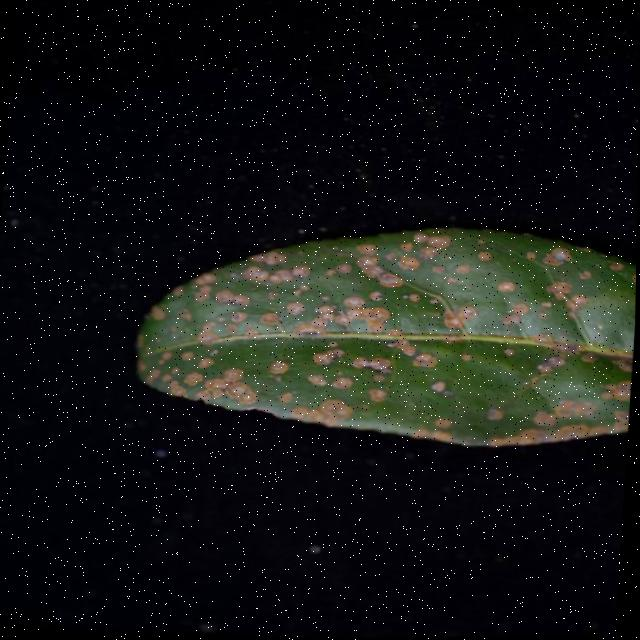Tea red rust: (158, 219, 626, 449)
